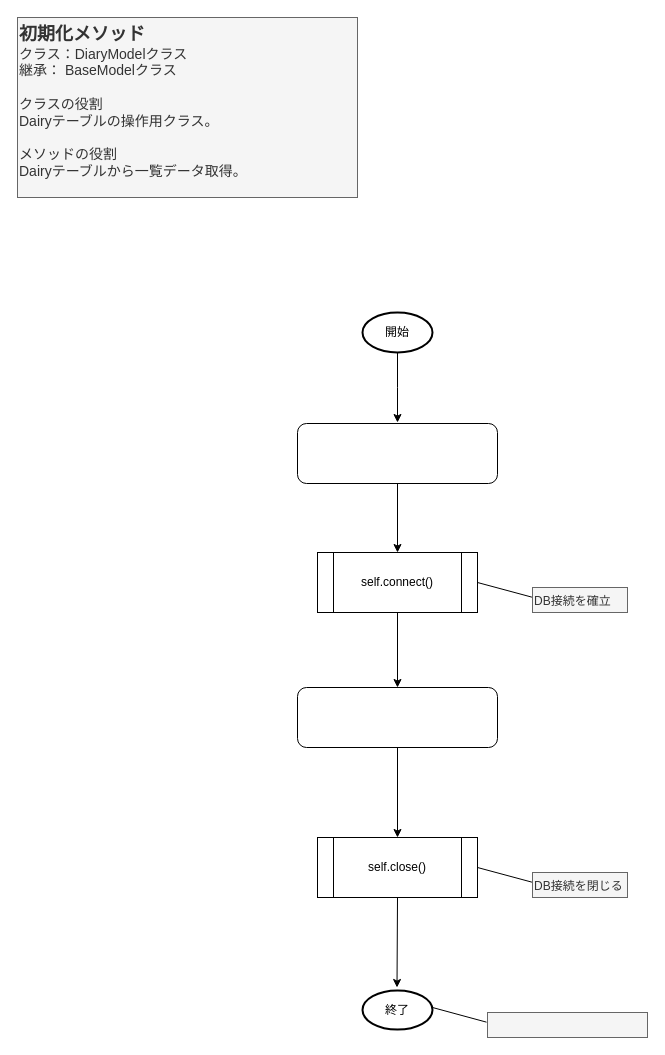
Some shapes in this 665 by 1055 pixel diagram are drawn without their labels. The centre of each missing label's shape, as x and y in pixels:
Dairyテーブルから一覧データ取得をし、 初期化した変数に代入: the point at 397,717
変数をNoneで初期化: the point at 397,453
戻り値：取得した一覧データ: the point at 567,1025
